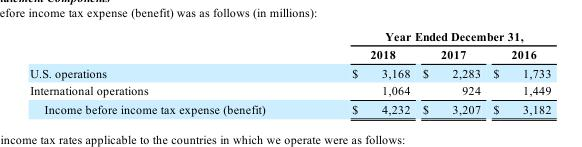table: (29, 28, 550, 116)
table column: (29, 28, 308, 116), (308, 28, 415, 116), (415, 28, 486, 116), (486, 28, 550, 116)
table column header: (29, 28, 550, 63)
table row: (29, 44, 550, 63), (29, 63, 550, 81), (29, 81, 550, 99), (29, 99, 550, 116), (29, 28, 550, 44)
table spanning cell: (308, 28, 550, 44)
